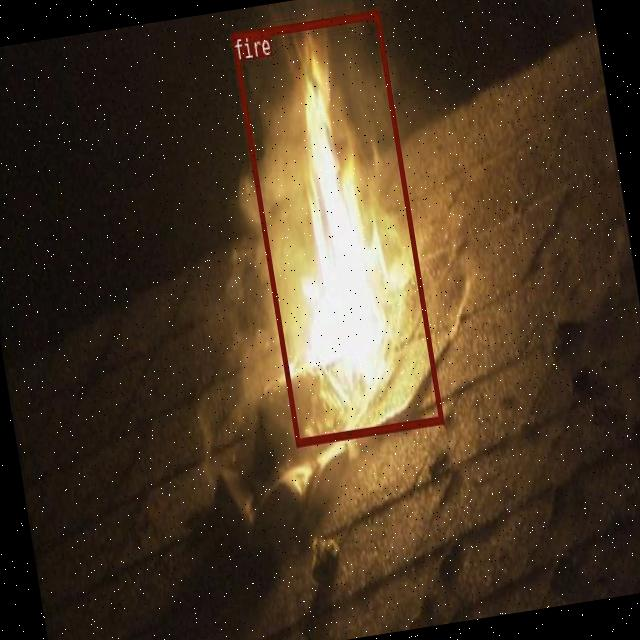fire: (231, 10, 444, 445)
